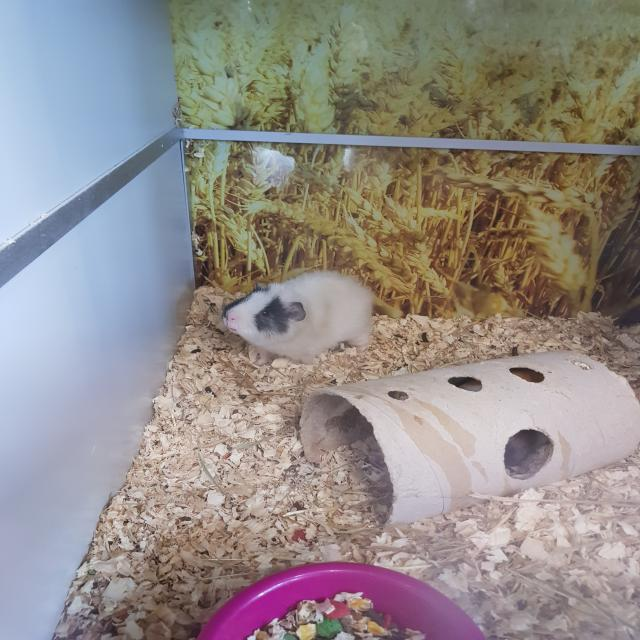guinea pig: (219, 270, 383, 370)
